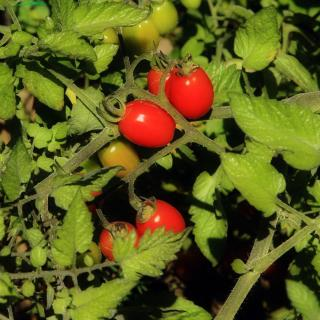tomato: (148, 53, 214, 118), (118, 96, 182, 144), (135, 197, 186, 235), (96, 136, 141, 173), (100, 220, 142, 254)
